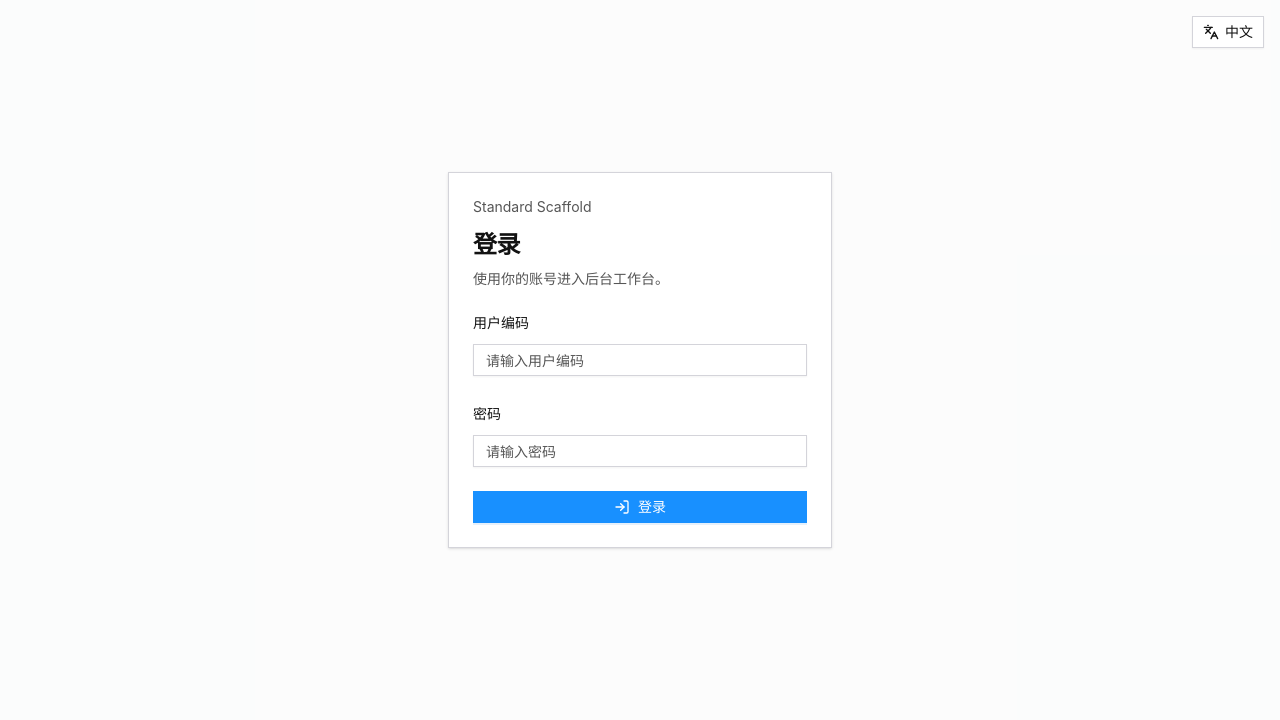
LoginPage › falls back to dashboard when redirect is missing
Type "DemoAdmin" into the field labelled "用户编码". click: (640, 360)
box: [473,344,807,376]
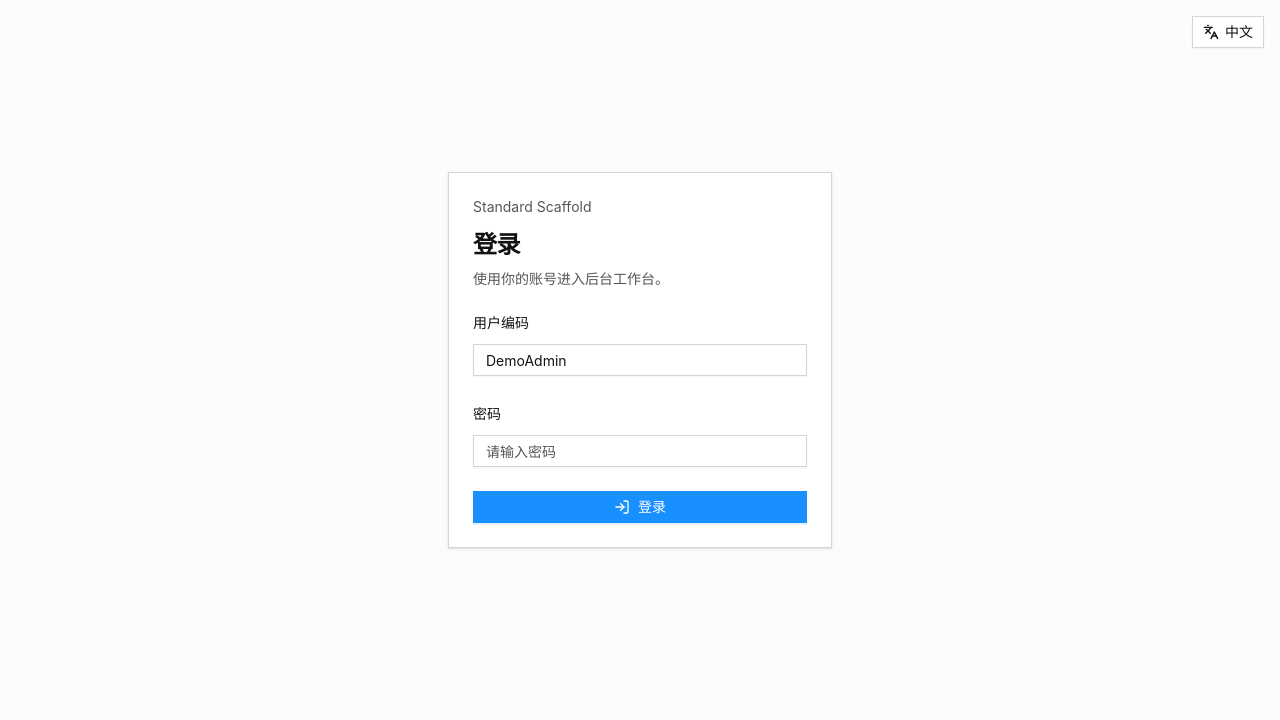
Type "Icpt1357!!" into the password field labelled "密码". click: (640, 451)
box: [473,435,807,467]
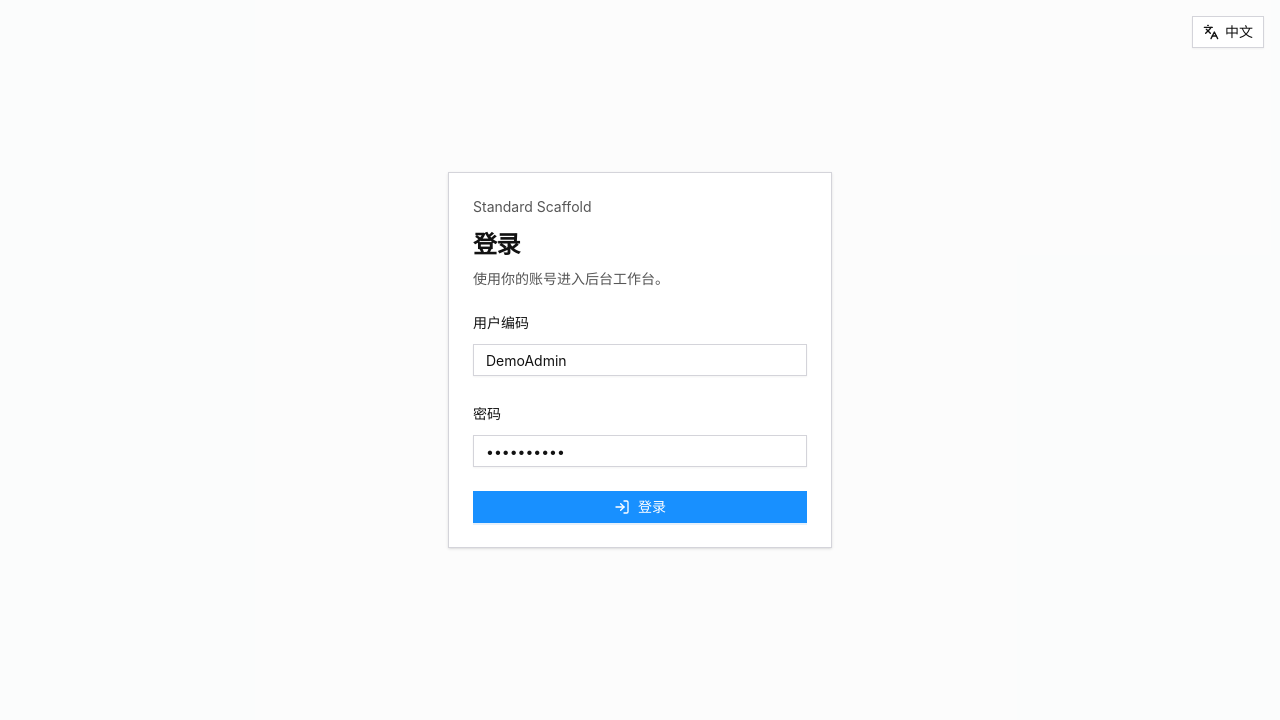
Click the button "登录". click: (640, 507)
box: [473,491,807,523]
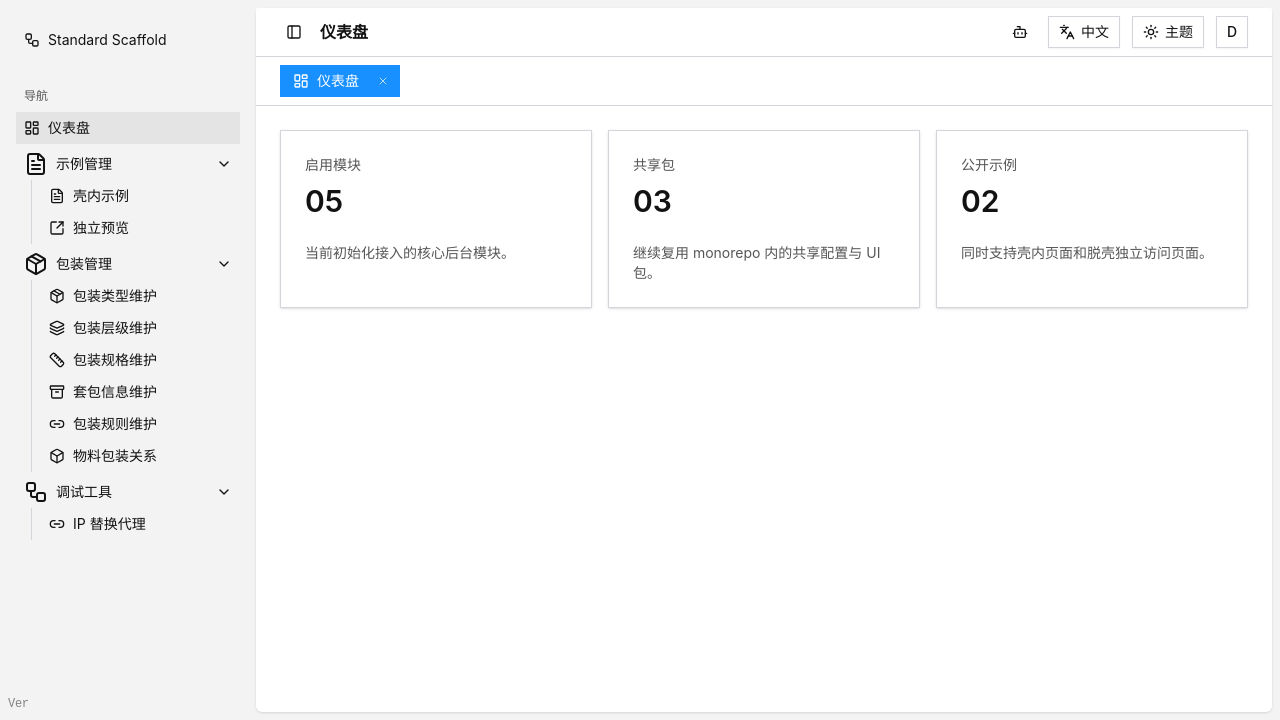
Expected: the heading "仪表盘" is shown, [320,20,368,44]
